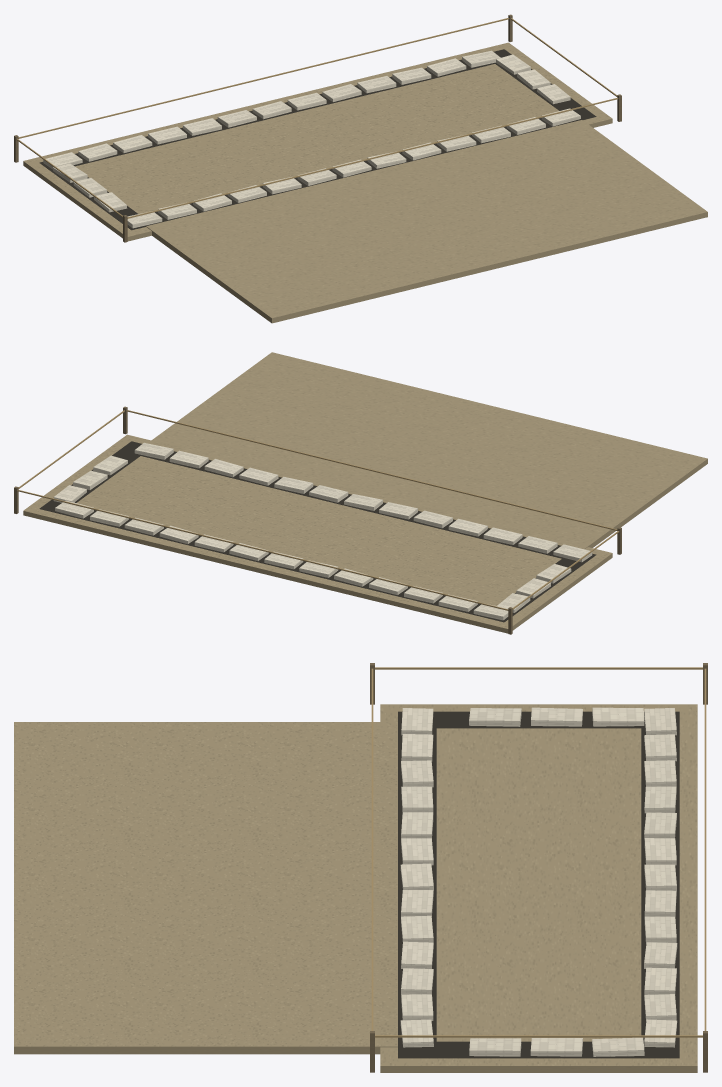
The model's file is pol-2-site.glb.
3 renders of one model, top to bottom at view 1: azimuth 30°, elevation 25°; view 2: azimuth 150°, elevation 25°; view 3: azimuth 270°, elevation 25°, orthographic. The views are drawn at different scales.
Size of the model in its own units: 34.2 by 2.02 by 27.1.
Materials: 6 (4 with a texture image).
